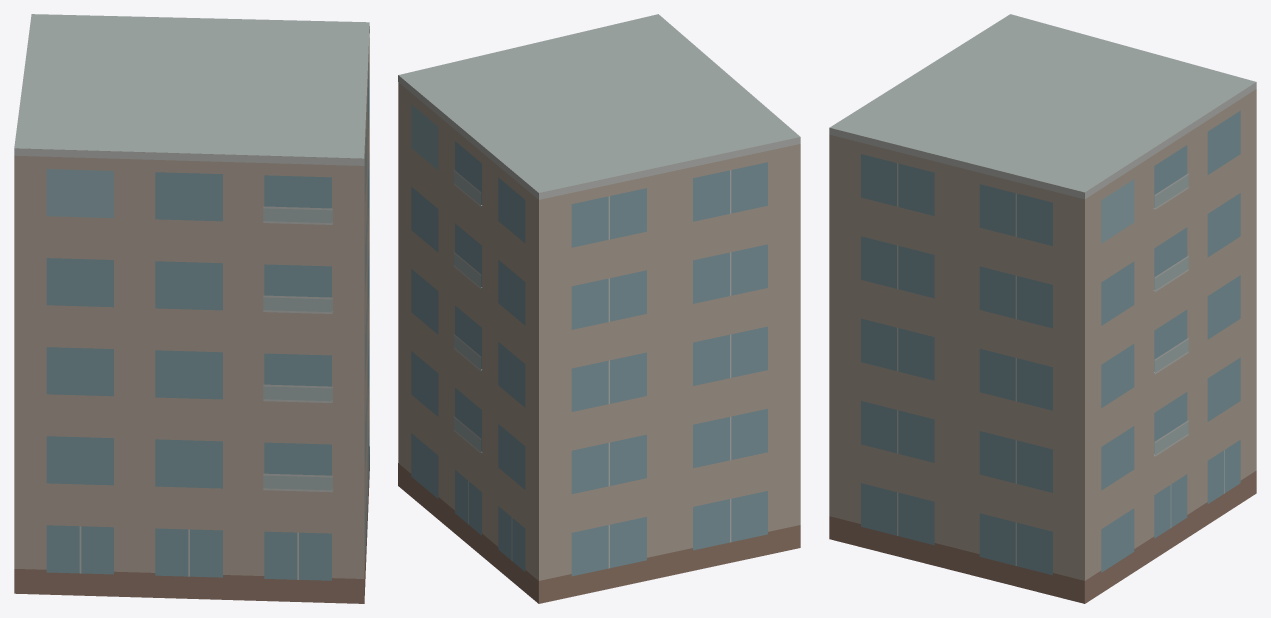
The model's file is survey-upis-32527656.glb.
3 renders of one model, left to right at view 1: azimuth 30°, elevation 25°; view 2: azimuth 150°, elevation 25°; view 3: azimuth 270°, elevation 25°, orthographic. The views are drawn at different scales.
Parts seen in each view (by area): view 1: survey-upis-32527656.tmp; view 2: survey-upis-32527656.tmp; view 3: survey-upis-32527656.tmp.
Part boxes in pixels (left/top/right/bottom): survey-upis-32527656.tmp: left=14, top=14, right=369, bottom=603; survey-upis-32527656.tmp: left=398, top=14, right=800, bottom=603; survey-upis-32527656.tmp: left=829, top=14, right=1256, bottom=603.
Size of the model in its own units: 13.59 by 14.6 by 13.75.
